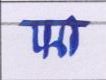aa_matra: (70, 25, 77, 53)
